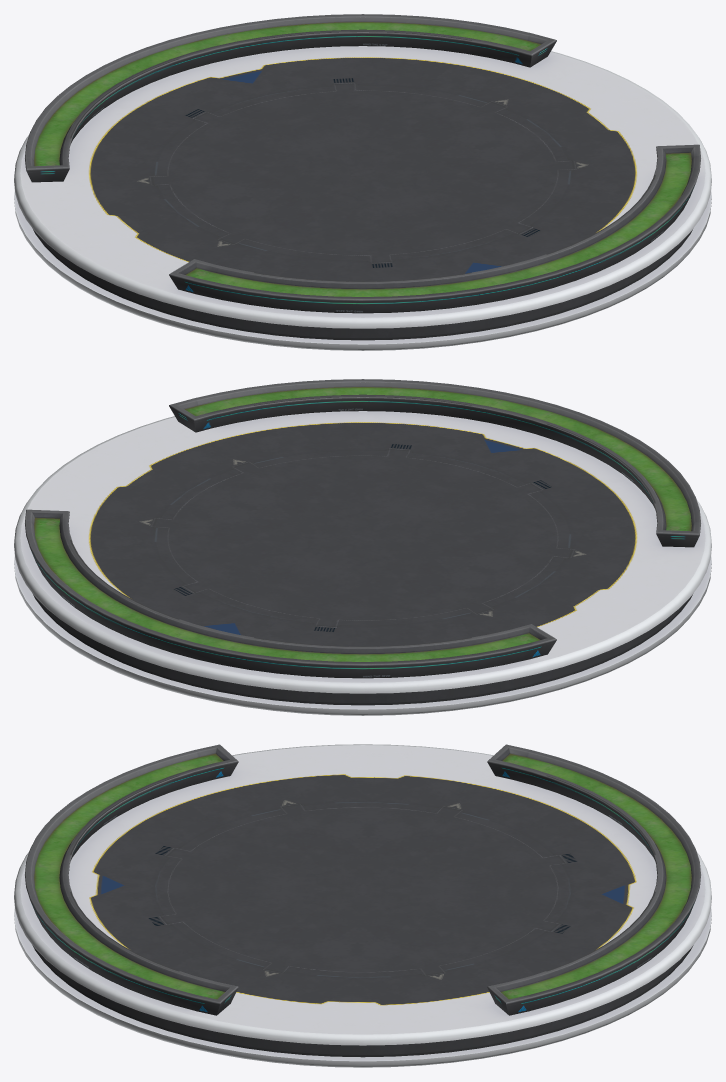
Rendered from mesh_1002_syq_sd005_1.FBX.
3 renders of one model, top to bottom at view 1: azimuth 30°, elevation 25°; view 2: azimuth 150°, elevation 25°; view 3: azimuth 270°, elevation 25°, orthographic.
Visible parts, largest first — view 1: mesh_1002_syq_sd005_1; view 2: mesh_1002_syq_sd005_1; view 3: mesh_1002_syq_sd005_1.
Boxes of the visible parts, <box> form: mesh_1002_syq_sd005_1: <box>14,14,711,350</box>; mesh_1002_syq_sd005_1: <box>14,379,711,715</box>; mesh_1002_syq_sd005_1: <box>14,744,711,1067</box>.
Bounding box in the file's own units: 7917 × 607 × 7917.
